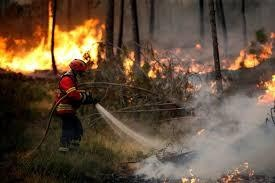fire: (0, 6, 104, 73), (125, 46, 216, 77), (222, 33, 273, 70)
